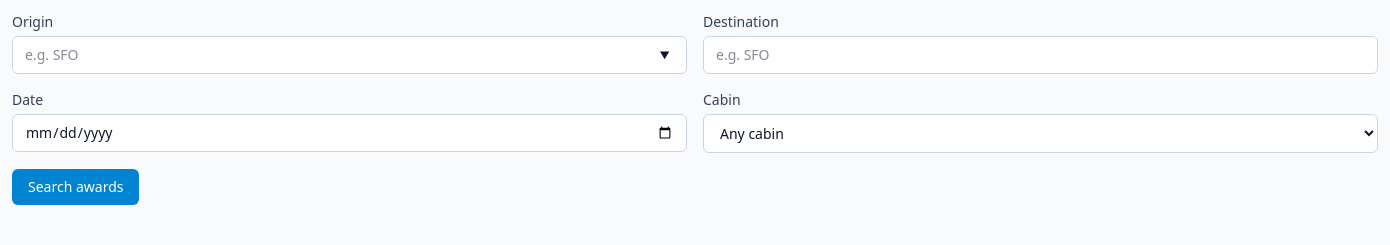
Test case: SearchForm › rejects a past date
Type "SFO" into the field labelled "Origin".
click(350, 55); type("SFO")  # box [12, 36, 687, 74]
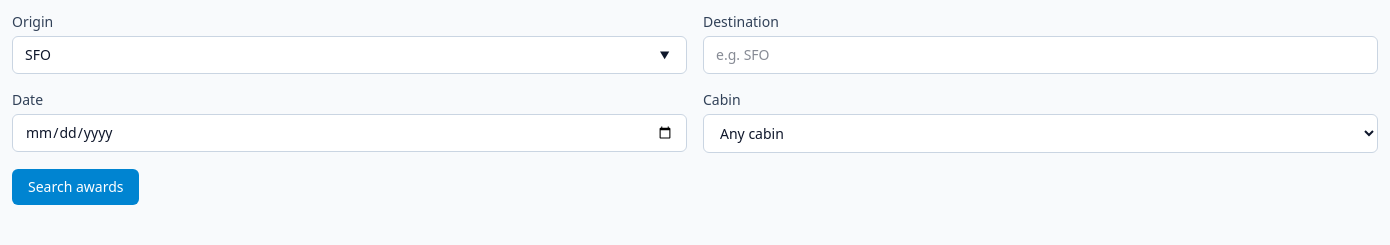
Type "JFK" into the field labelled "Destination".
click(1040, 55); type("JFK")  # box [703, 36, 1378, 74]
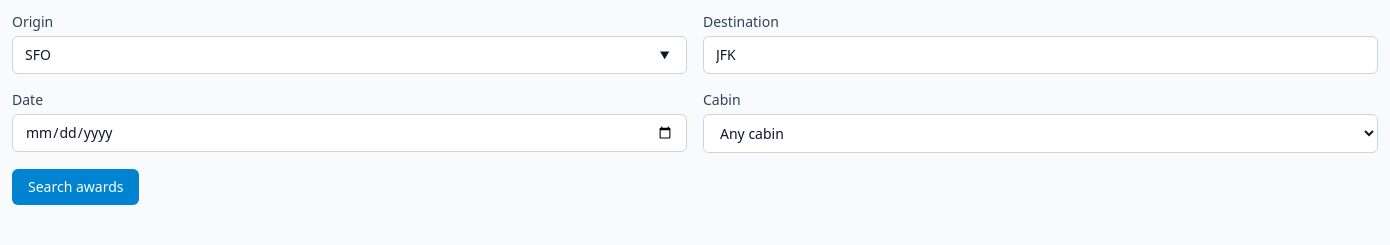
Type "2000-01-01" into the date field labelled "Date".
click(350, 133); type("2000-01-01")  # box [12, 114, 687, 152]
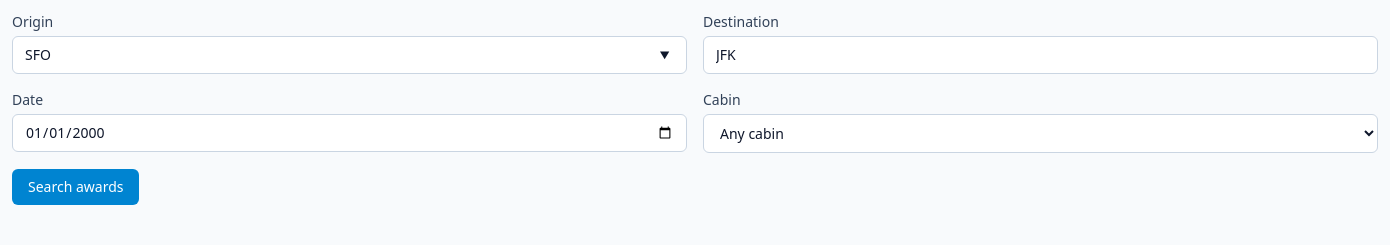
Click the button "Search awards".
click(76, 187)  # box [12, 169, 140, 205]
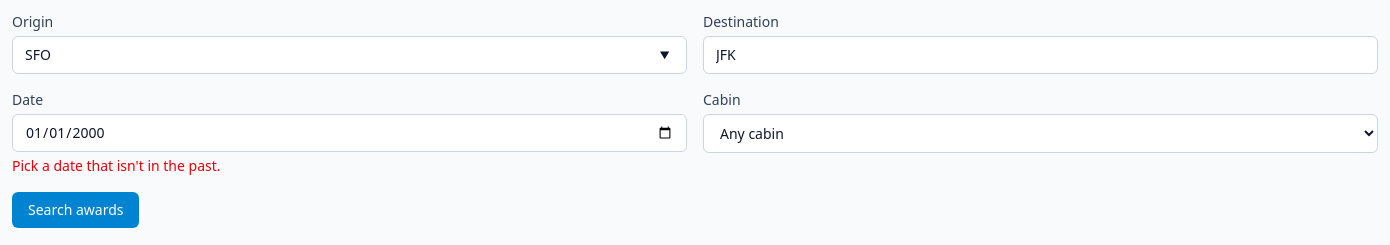
Expected: the text "Pick a date that isn't in the past." is shown, [12, 156, 220, 175]
